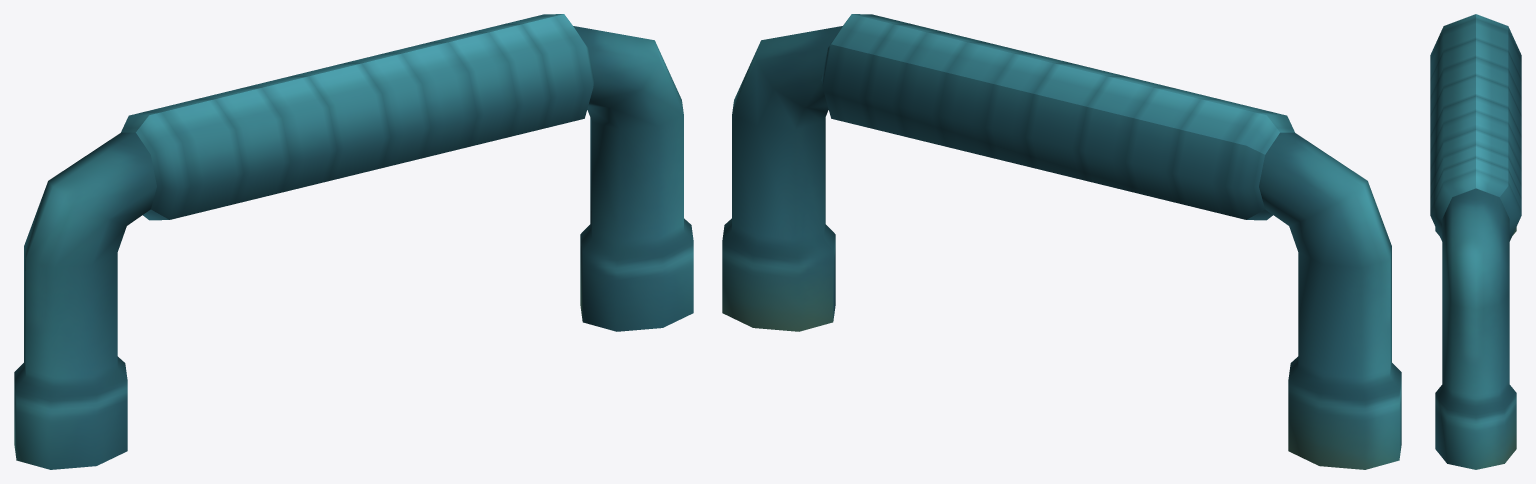
The model's file is handle_b.FBX.
The picture shows the model from 3 angles, left to right: view 1: azimuth 30°, elevation 25°; view 2: azimuth 150°, elevation 25°; view 3: azimuth 270°, elevation 25°; orthographic projection. The views are drawn at different scales.
Parts seen in each view (by area): view 1: Cylinder032; view 2: Cylinder032; view 3: Cylinder032.
Part boxes in pixels (<box>): Cylinder032: <box>14,14,693,469</box>; Cylinder032: <box>722,14,1401,469</box>; Cylinder032: <box>1430,14,1521,469</box>.
Bounding box in the file's own units: 13.04 × 5.78 × 1.94.
